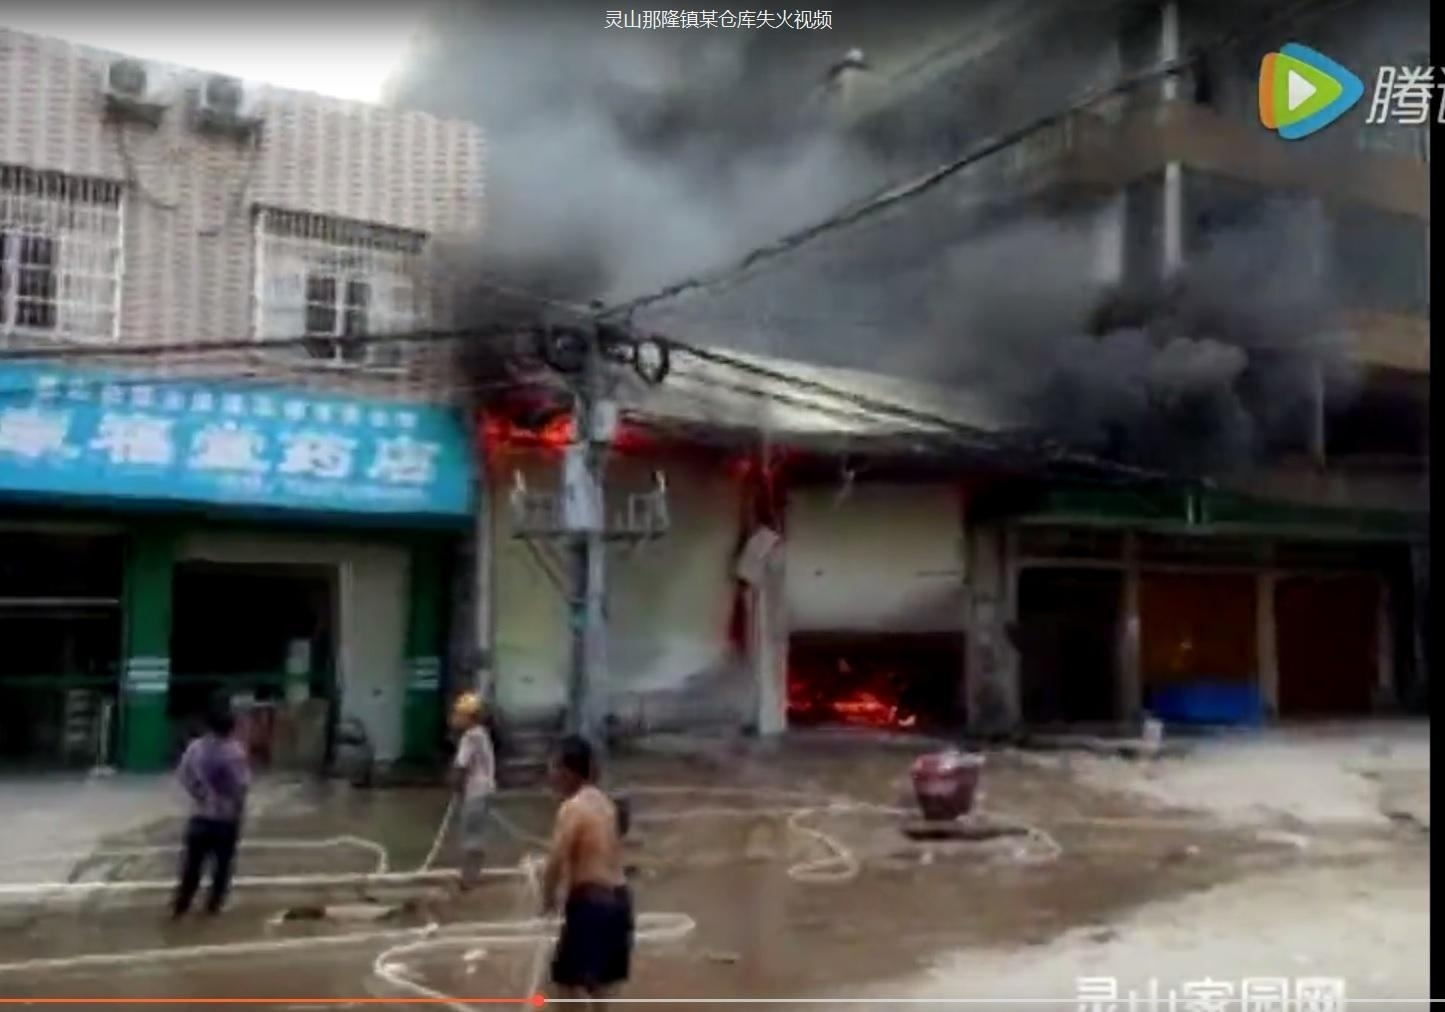fire: (825, 676, 914, 728)
